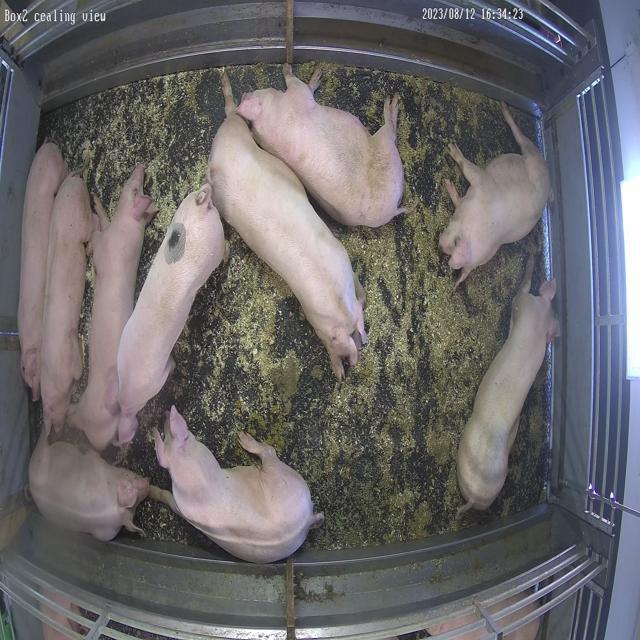Dirt: (261, 321, 477, 550), (316, 65, 520, 232), (503, 364, 551, 516)
Pig: (208, 75, 367, 380), (237, 66, 404, 226)
